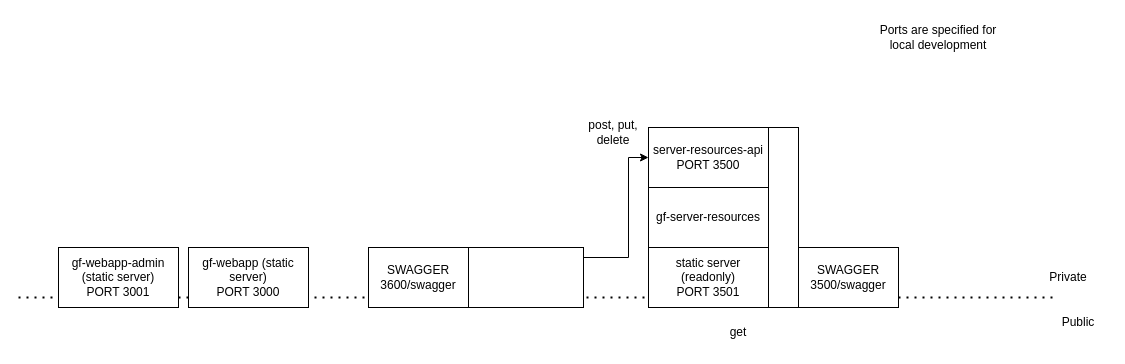
Some shapes in this 1125 by 364 pixel diagram are drawn without their labels. The centre of each missing label's shape, as x and y in pixels:
"fs" belongs at point 783,217.
"gf-server-api PORT 3600" belongs at point 523,277.
